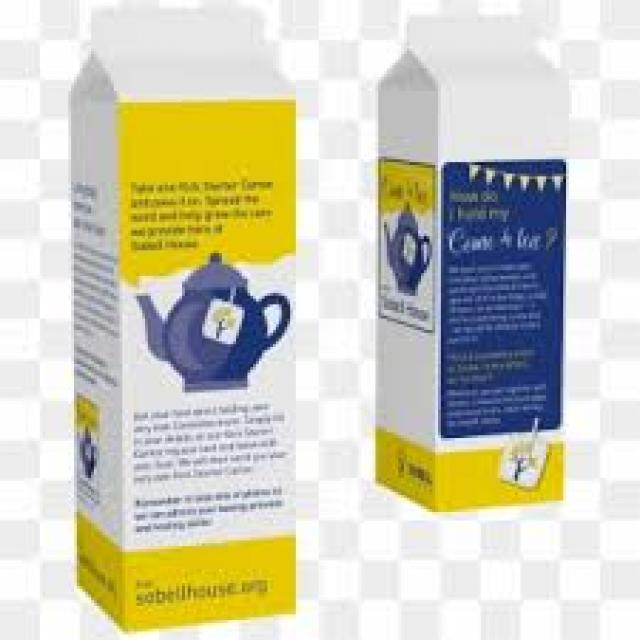non_white_jug: (66, 3, 304, 631), (367, 0, 572, 526)
